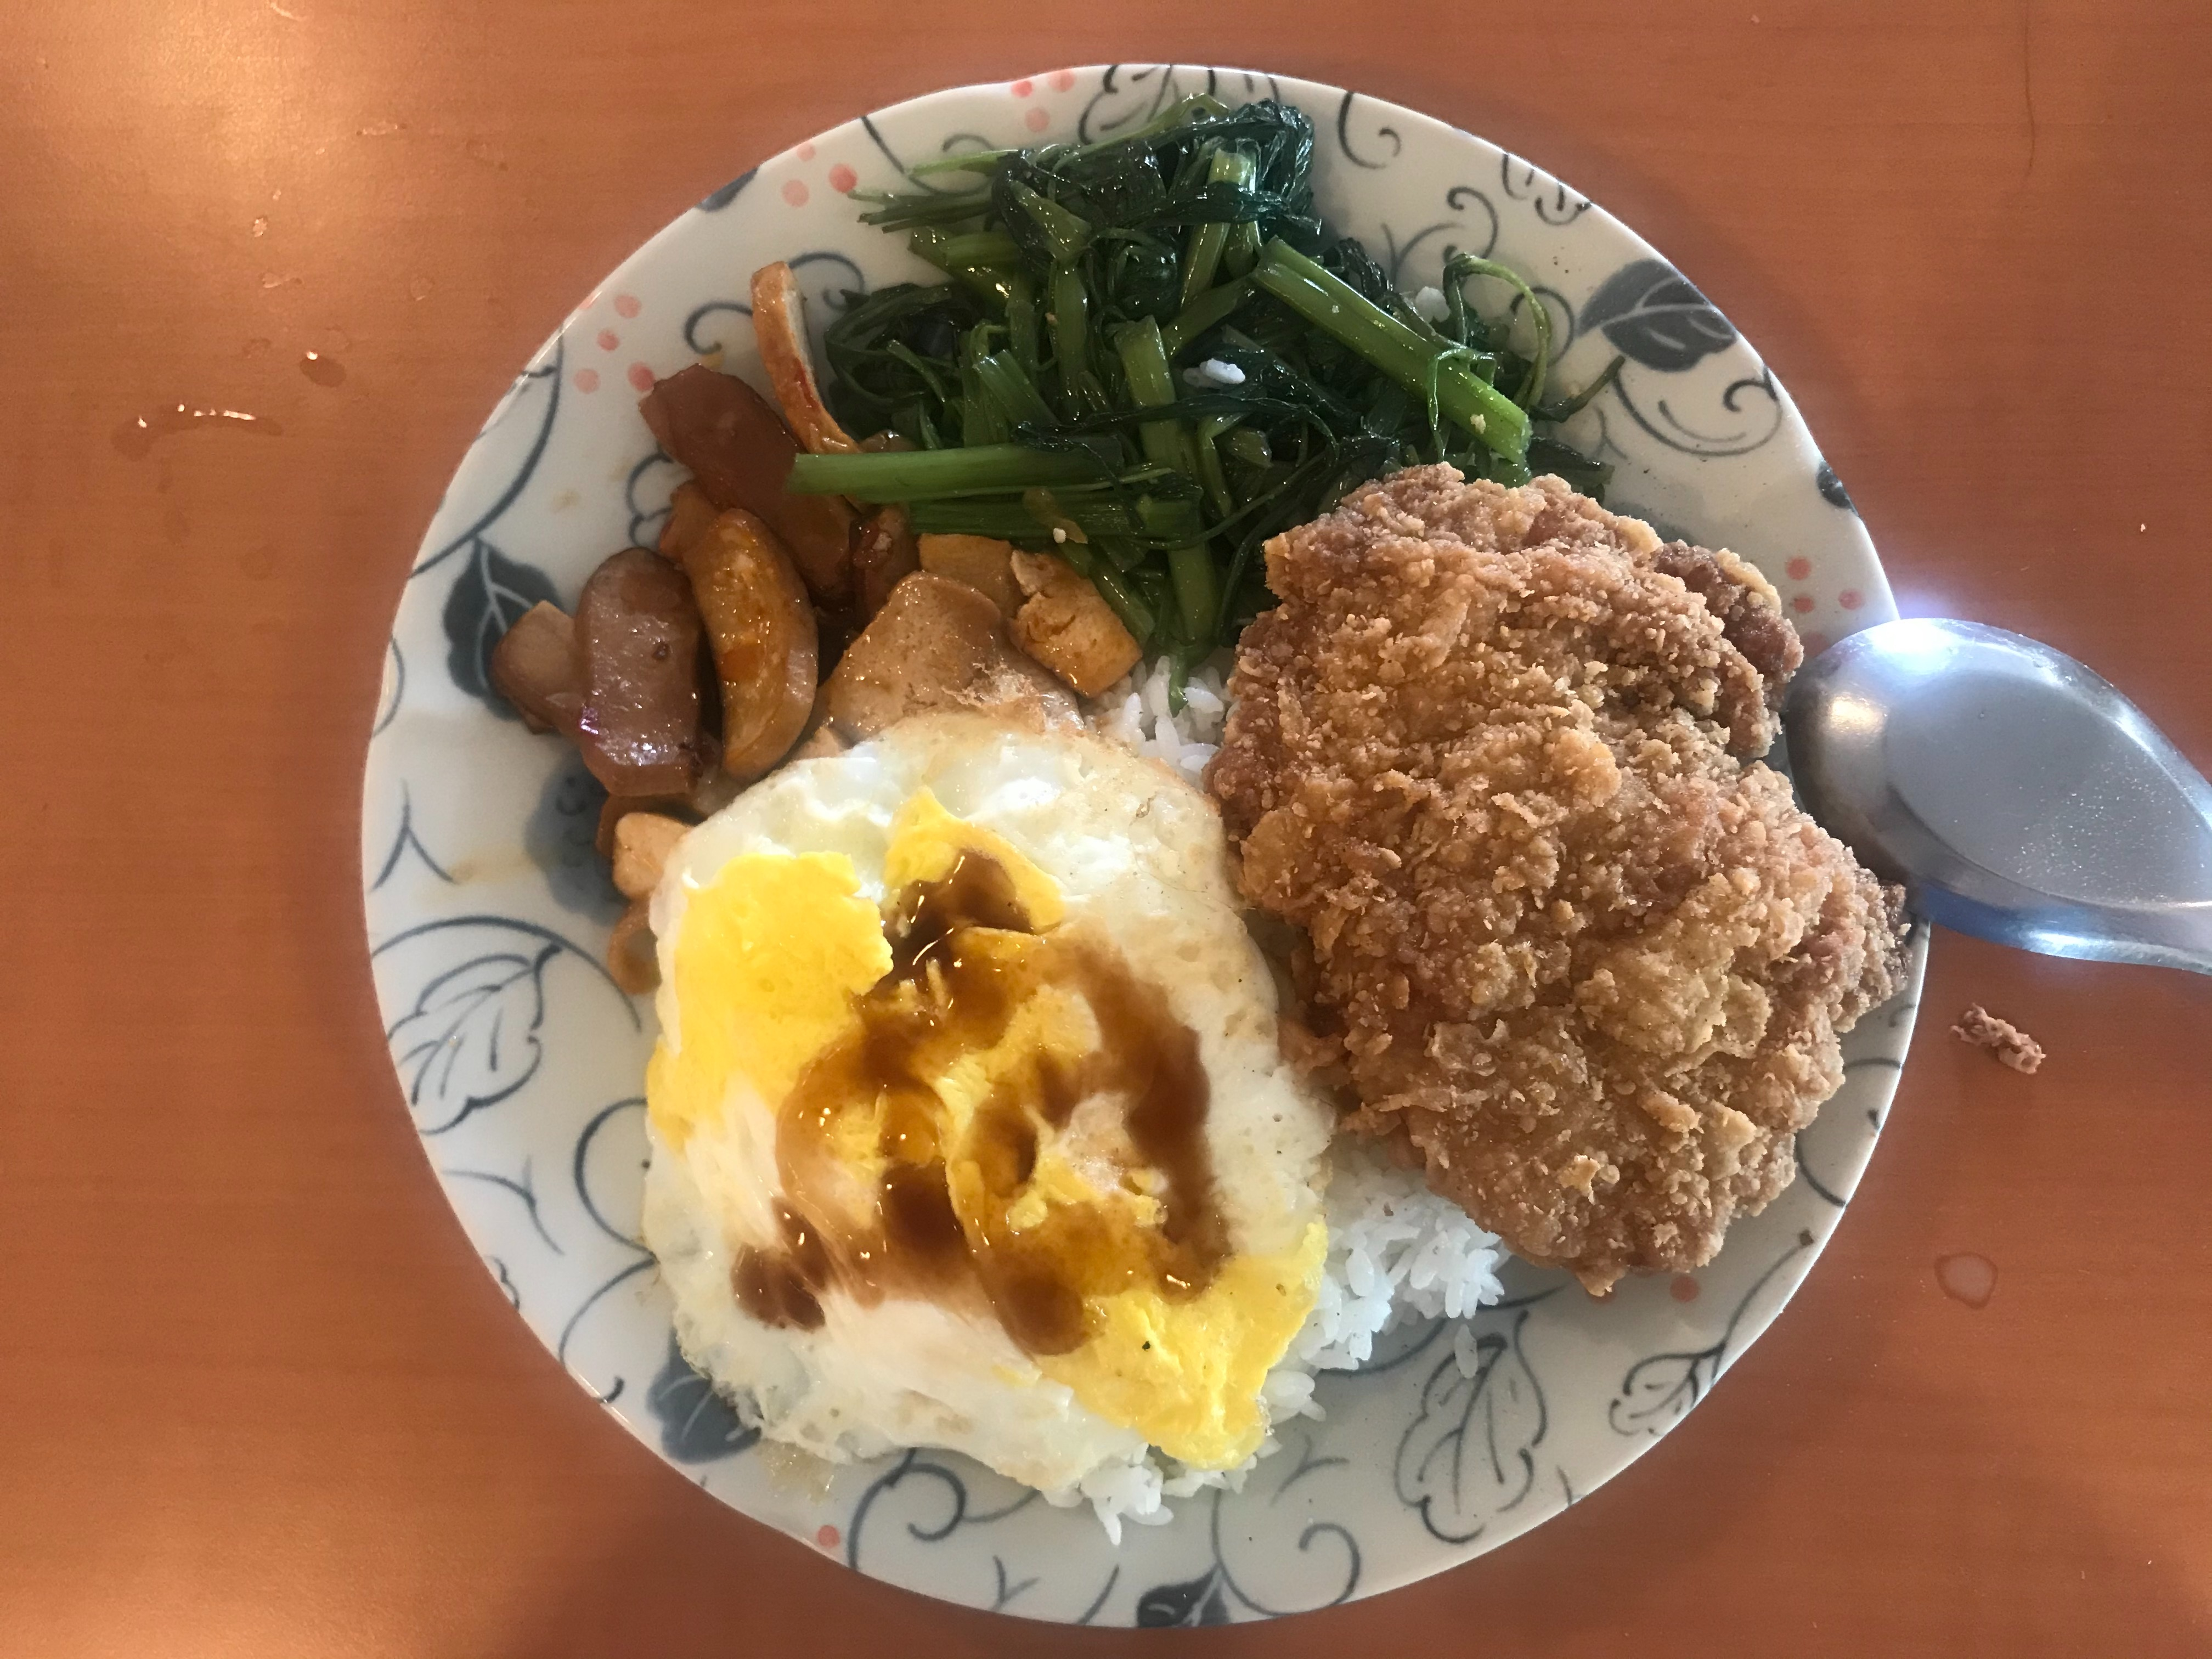fried_chicken: (1298, 547, 1796, 1195)
fried_eggs: (709, 814, 1292, 1427)
water_spinach: (880, 122, 1442, 476)
